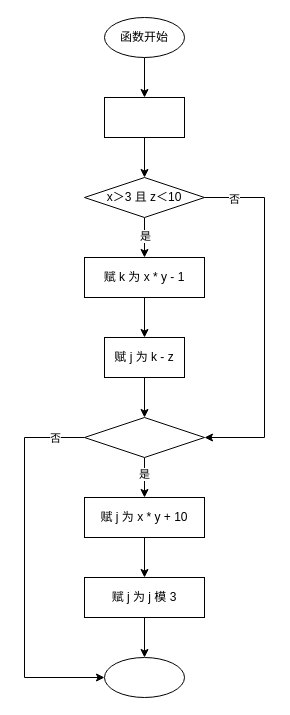
Image size: 290x715. Some labels were removed from this diagram. The shapes that lost their labels are listed below. From the top down, each one's centre as x and y in pixels, then its label:
At point 144,117: "定义 k=0 j=0".
At point 144,437: "x＝4 或 y ＞ 5".
At point 144,677: "函数结束".
